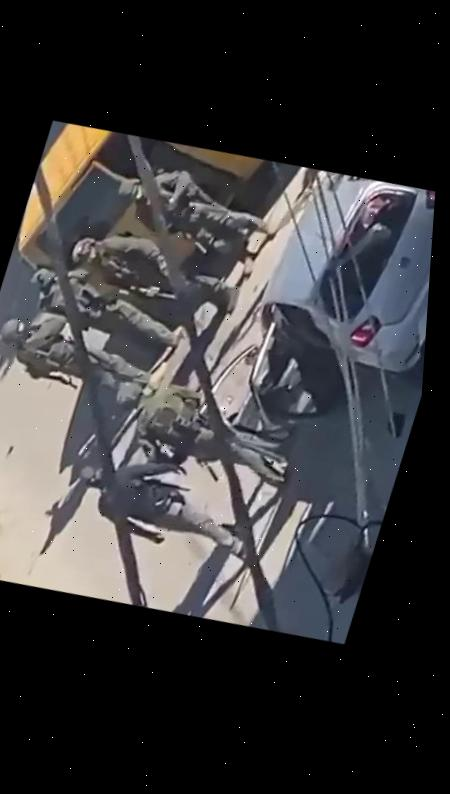car: (222, 157, 438, 462)
person: (59, 433, 275, 575), (92, 363, 308, 505), (98, 147, 293, 288), (57, 211, 255, 330), (0, 292, 180, 416), (11, 247, 199, 363)
